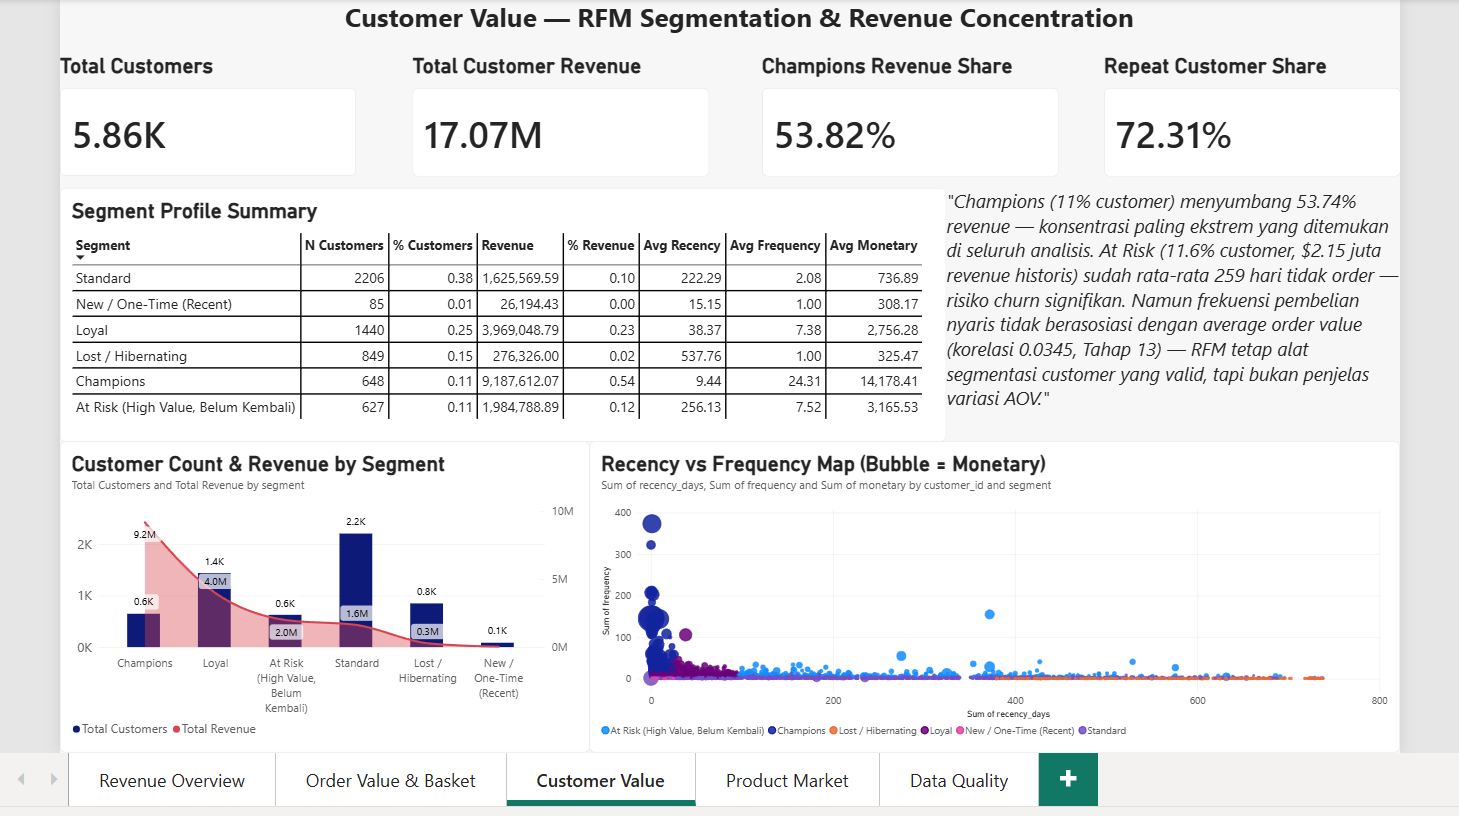

What the dashboard file says about the page in this screenshot:
{"tool":"powerbi","page":{"name":"Customer Value","canvas":[1920,1080],"ordinal":2},"visuals":[{"type":"textbox","box":[408,0,1190.6,76.3],"z":0},{"type":"cardVisual","title":"Total Customers","fields":{"Data":["mart_customer_value.Total Customers"]},"box":[0,76.3,424.7,176.6],"z":1},{"type":"cardVisual","title":"Total Customer Revenue","fields":{"Data":["mart_customer_value.Total Customer Revenue"]},"box":[505.8,76.3,425,177],"z":2},{"type":"cardVisual","title":"Champions Revenue Share","fields":{"Data":["mart_customer_value.Champions Revenue Share"]},"box":[1004.5,76.3,425,177],"z":3},{"type":"cardVisual","title":"Repeat Customer Share","fields":{"Data":["mart_customer_value.Repeat Customer Share"]},"box":[1496,76.3,425,177],"z":4},{"type":"lineClusteredColumnComboChart","title":"Customer Count & Revenue by Segment","fields":{"Category":["mart_customer_value.segment"],"Y":["Sum(mart_customer_value.customer_key)"],"Y2":["Sum(mart_customer_value.monetary)"]},"box":[0,677.2,758.6,402],"z":5},{"type":"scatterChart","title":"Recency vs Frequency Map (Bubble = Monetary)","fields":{"X":["Sum(mart_customer_value.recency_days)"],"Y":["Sum(mart_customer_value.frequency)"],"Size":["Sum(mart_customer_value.monetary)"],"Series":["mart_customer_value.segment"],"Category":["mart_customer_value.customer_id"]},"box":[758.6,677.2,1160.6,402],"z":6},{"type":"tableEx","title":"Segment Profile Summary","fields":{"Values":["mart_customer_value.segment","CountNonNull(mart_customer_value.customer_key)","mart_customer_value.Pct of Total Customers","Sum(mart_customer_value.monetary)","mart_customer_value.Pct of Total Revenue","Avg(mart_customer_value.recency_days)","Avg(mart_customer_value.frequency)","Avg(mart_customer_value.monetary)"]},"box":[0,270.4,1270.7,406.8],"z":7},{"type":"textbox","box":[1270.7,270.4,648.5,406.8],"z":8}]}

Visuals, with their boxes on the page's 1920x1080 design canvas (x1, y1, x2, y2). These are canvas units, not pixel positions in the 1459x816 screenshot, which may show the page scaled, cropped or inside an application window:
textbox: pyautogui.locateOnScreen(408, 0, 1599, 76)
"Total Customers" cardVisual: pyautogui.locateOnScreen(0, 76, 425, 253)
"Total Customer Revenue" cardVisual: pyautogui.locateOnScreen(506, 76, 931, 253)
"Champions Revenue Share" cardVisual: pyautogui.locateOnScreen(1004, 76, 1430, 253)
"Repeat Customer Share" cardVisual: pyautogui.locateOnScreen(1496, 76, 1921, 253)
"Customer Count & Revenue by Segment" lineClusteredColumnComboChart: pyautogui.locateOnScreen(0, 677, 759, 1079)
"Recency vs Frequency Map (Bubble = Monetary)" scatterChart: pyautogui.locateOnScreen(759, 677, 1919, 1079)
"Segment Profile Summary" tableEx: pyautogui.locateOnScreen(0, 270, 1271, 677)
textbox: pyautogui.locateOnScreen(1271, 270, 1919, 677)
